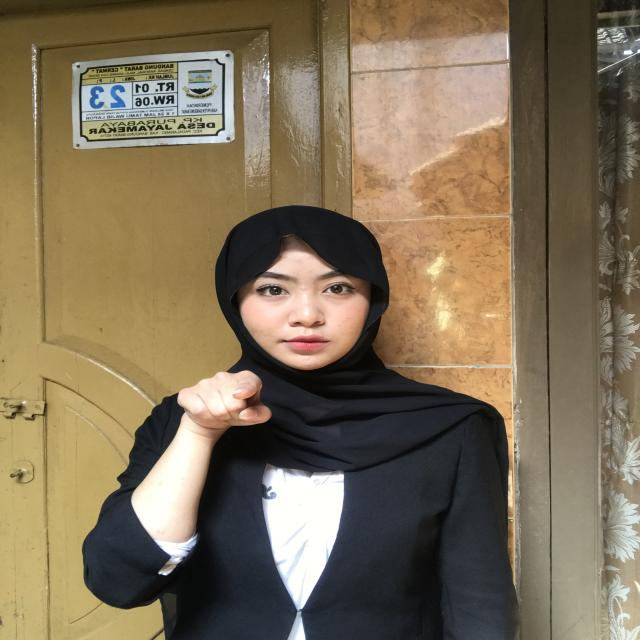kamu: (152, 359, 309, 460)
